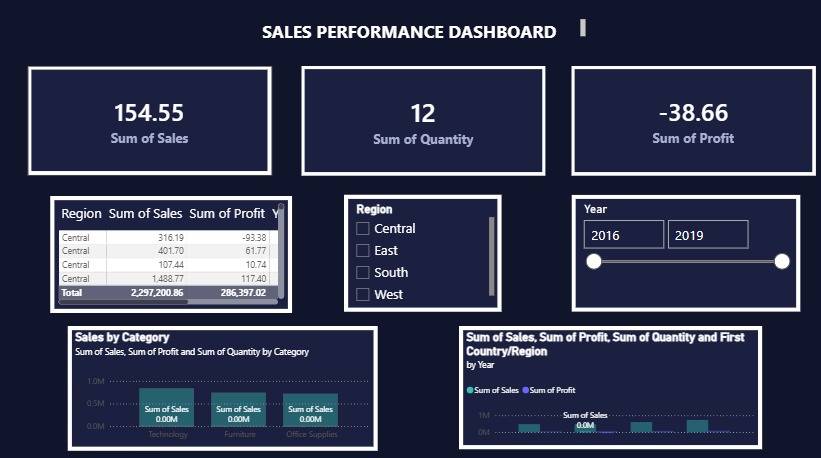

What the dashboard file says about the page in this screenshot:
{"tool":"powerbi","page":{"name":"Page 1","canvas":[1280,720],"ordinal":0},"visuals":[{"type":"tableEx","fields":{"Values":["Orders.Region","Sum(Orders.Sales)","Sum(Orders.Profit)","Orders.Order Date.Variation.Date Hierarchy.Year","Orders.Order Date.Variation.Date Hierarchy.Quarter","Orders.Order Date.Variation.Date Hierarchy.Month","Orders.Order Date.Variation.Date Hierarchy.Day"]},"box":[79.6,307.4,372.2,179.6],"z":0},{"type":"clusteredColumnChart","fields":{"Category":["Orders.Order Date.Variation.Date Hierarchy.Year","Orders.Order Date.Variation.Date Hierarchy.Quarter","Orders.Order Date.Variation.Date Hierarchy.Month","Orders.Order Date.Variation.Date Hierarchy.Day"],"Y":["Sum(Orders.Sales)","Sum(Orders.Profit)"]},"box":[708.3,508.3,466.7,189.6],"z":1000},{"type":"slicer","fields":{"Values":["Orders.Region"]},"box":[531.5,305.6,242.6,179.6],"z":2000},{"type":"textbox","box":[400,30,507.1,40],"z":3000},{"type":"slicer","fields":{"Values":["Orders.Order Date.Variation.Date Hierarchy.Year"]},"box":[881.5,305.6,351.9,179.6],"z":4000},{"type":"clusteredColumnChart","title":"Sales by Category","fields":{"Category":["Orders.Category"],"Y":["Sum(Orders.Sales)"]},"box":[106.2,508.3,477.1,191.7],"z":5000},{"type":"cardVisual","fields":{"Data":["Sum(Orders.Sales)"]},"box":[43.8,108.3,375.9,168.5],"z":6000},{"type":"cardVisual","fields":{"Data":["Sum(Orders.Profit)"]},"box":[881.5,107.4,375.9,168.5],"z":7000},{"type":"cardVisual","fields":{"Data":["Sum(Orders.Quantity)"]},"box":[464.6,108.3,375,168.8],"z":8000}]}

Visuals, with their boxes in screenshot pixels (x1, y1, x2, y2), scaled from the page's 1280x720 canvas onto the 821x458 screenshot:
tableEx - Orders.Region x Sum(Orders.Sales): {"left": 51, "top": 196, "right": 290, "bottom": 310}
clusteredColumnChart - Orders.Order Date.Variation.Date Hierarchy.Year x Orders.Order Date.Variation.Date Hierarchy.Quarter: {"left": 454, "top": 323, "right": 754, "bottom": 444}
slicer - Orders.Region: {"left": 341, "top": 194, "right": 497, "bottom": 309}
textbox: {"left": 257, "top": 19, "right": 582, "bottom": 45}
slicer - Orders.Order Date.Variation.Date Hierarchy.Year: {"left": 565, "top": 194, "right": 791, "bottom": 309}
"Sales by Category" clusteredColumnChart: {"left": 68, "top": 323, "right": 374, "bottom": 445}
cardVisual - Sum(Orders.Sales): {"left": 28, "top": 69, "right": 269, "bottom": 176}
cardVisual - Sum(Orders.Profit): {"left": 565, "top": 68, "right": 807, "bottom": 176}
cardVisual - Sum(Orders.Quantity): {"left": 298, "top": 69, "right": 539, "bottom": 176}
